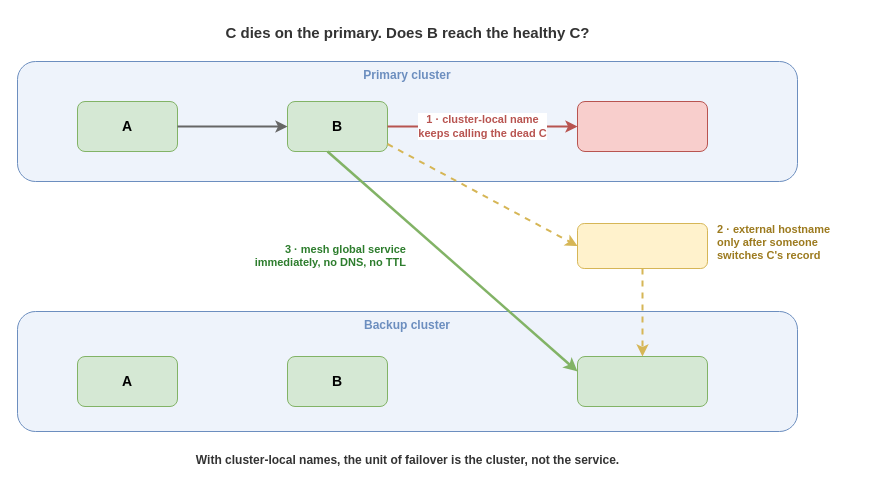
The diagram is 873 pixels wide and 487 high, and some of its shapes have lost their labels. The shapes that lost their labels are listed below. From the top down, each one's centre as x and y in pixels, then its label:
At [642,126]: "C ✕ down".
At [642,245]: "DNS record for C".
At [642,381]: "C healthy".
